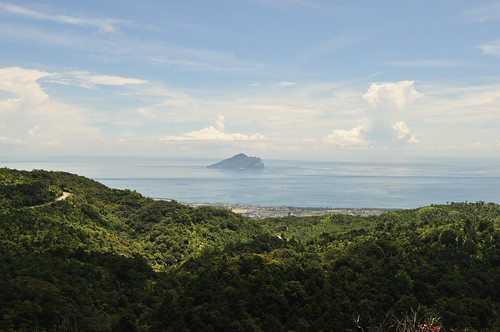turtleIsland: (204, 152, 266, 171)
